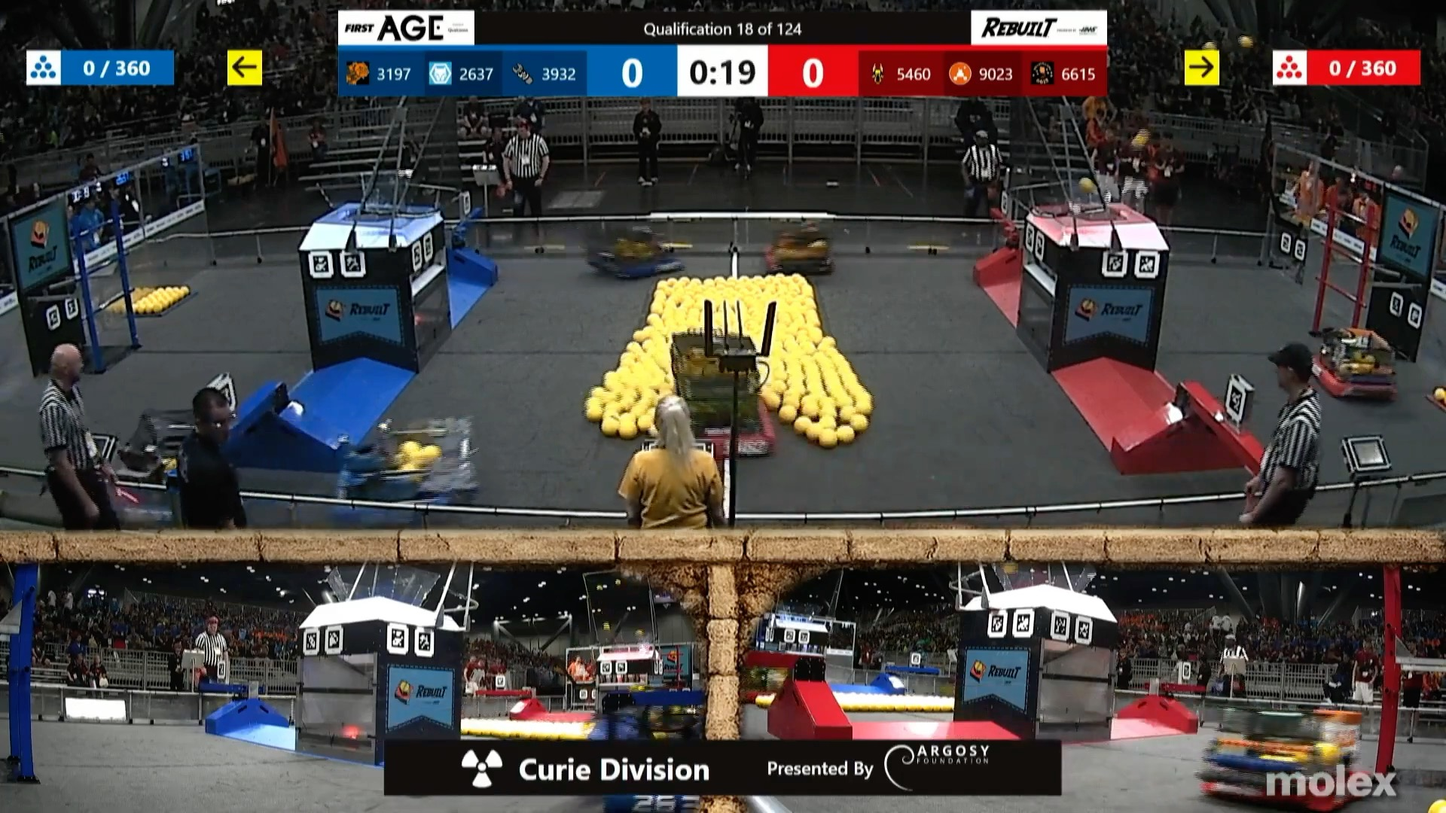bumpers: (1185, 764, 1407, 813), (331, 456, 459, 530), (664, 395, 780, 462), (1289, 343, 1400, 403), (106, 479, 232, 525), (581, 244, 694, 284), (762, 247, 837, 283)
